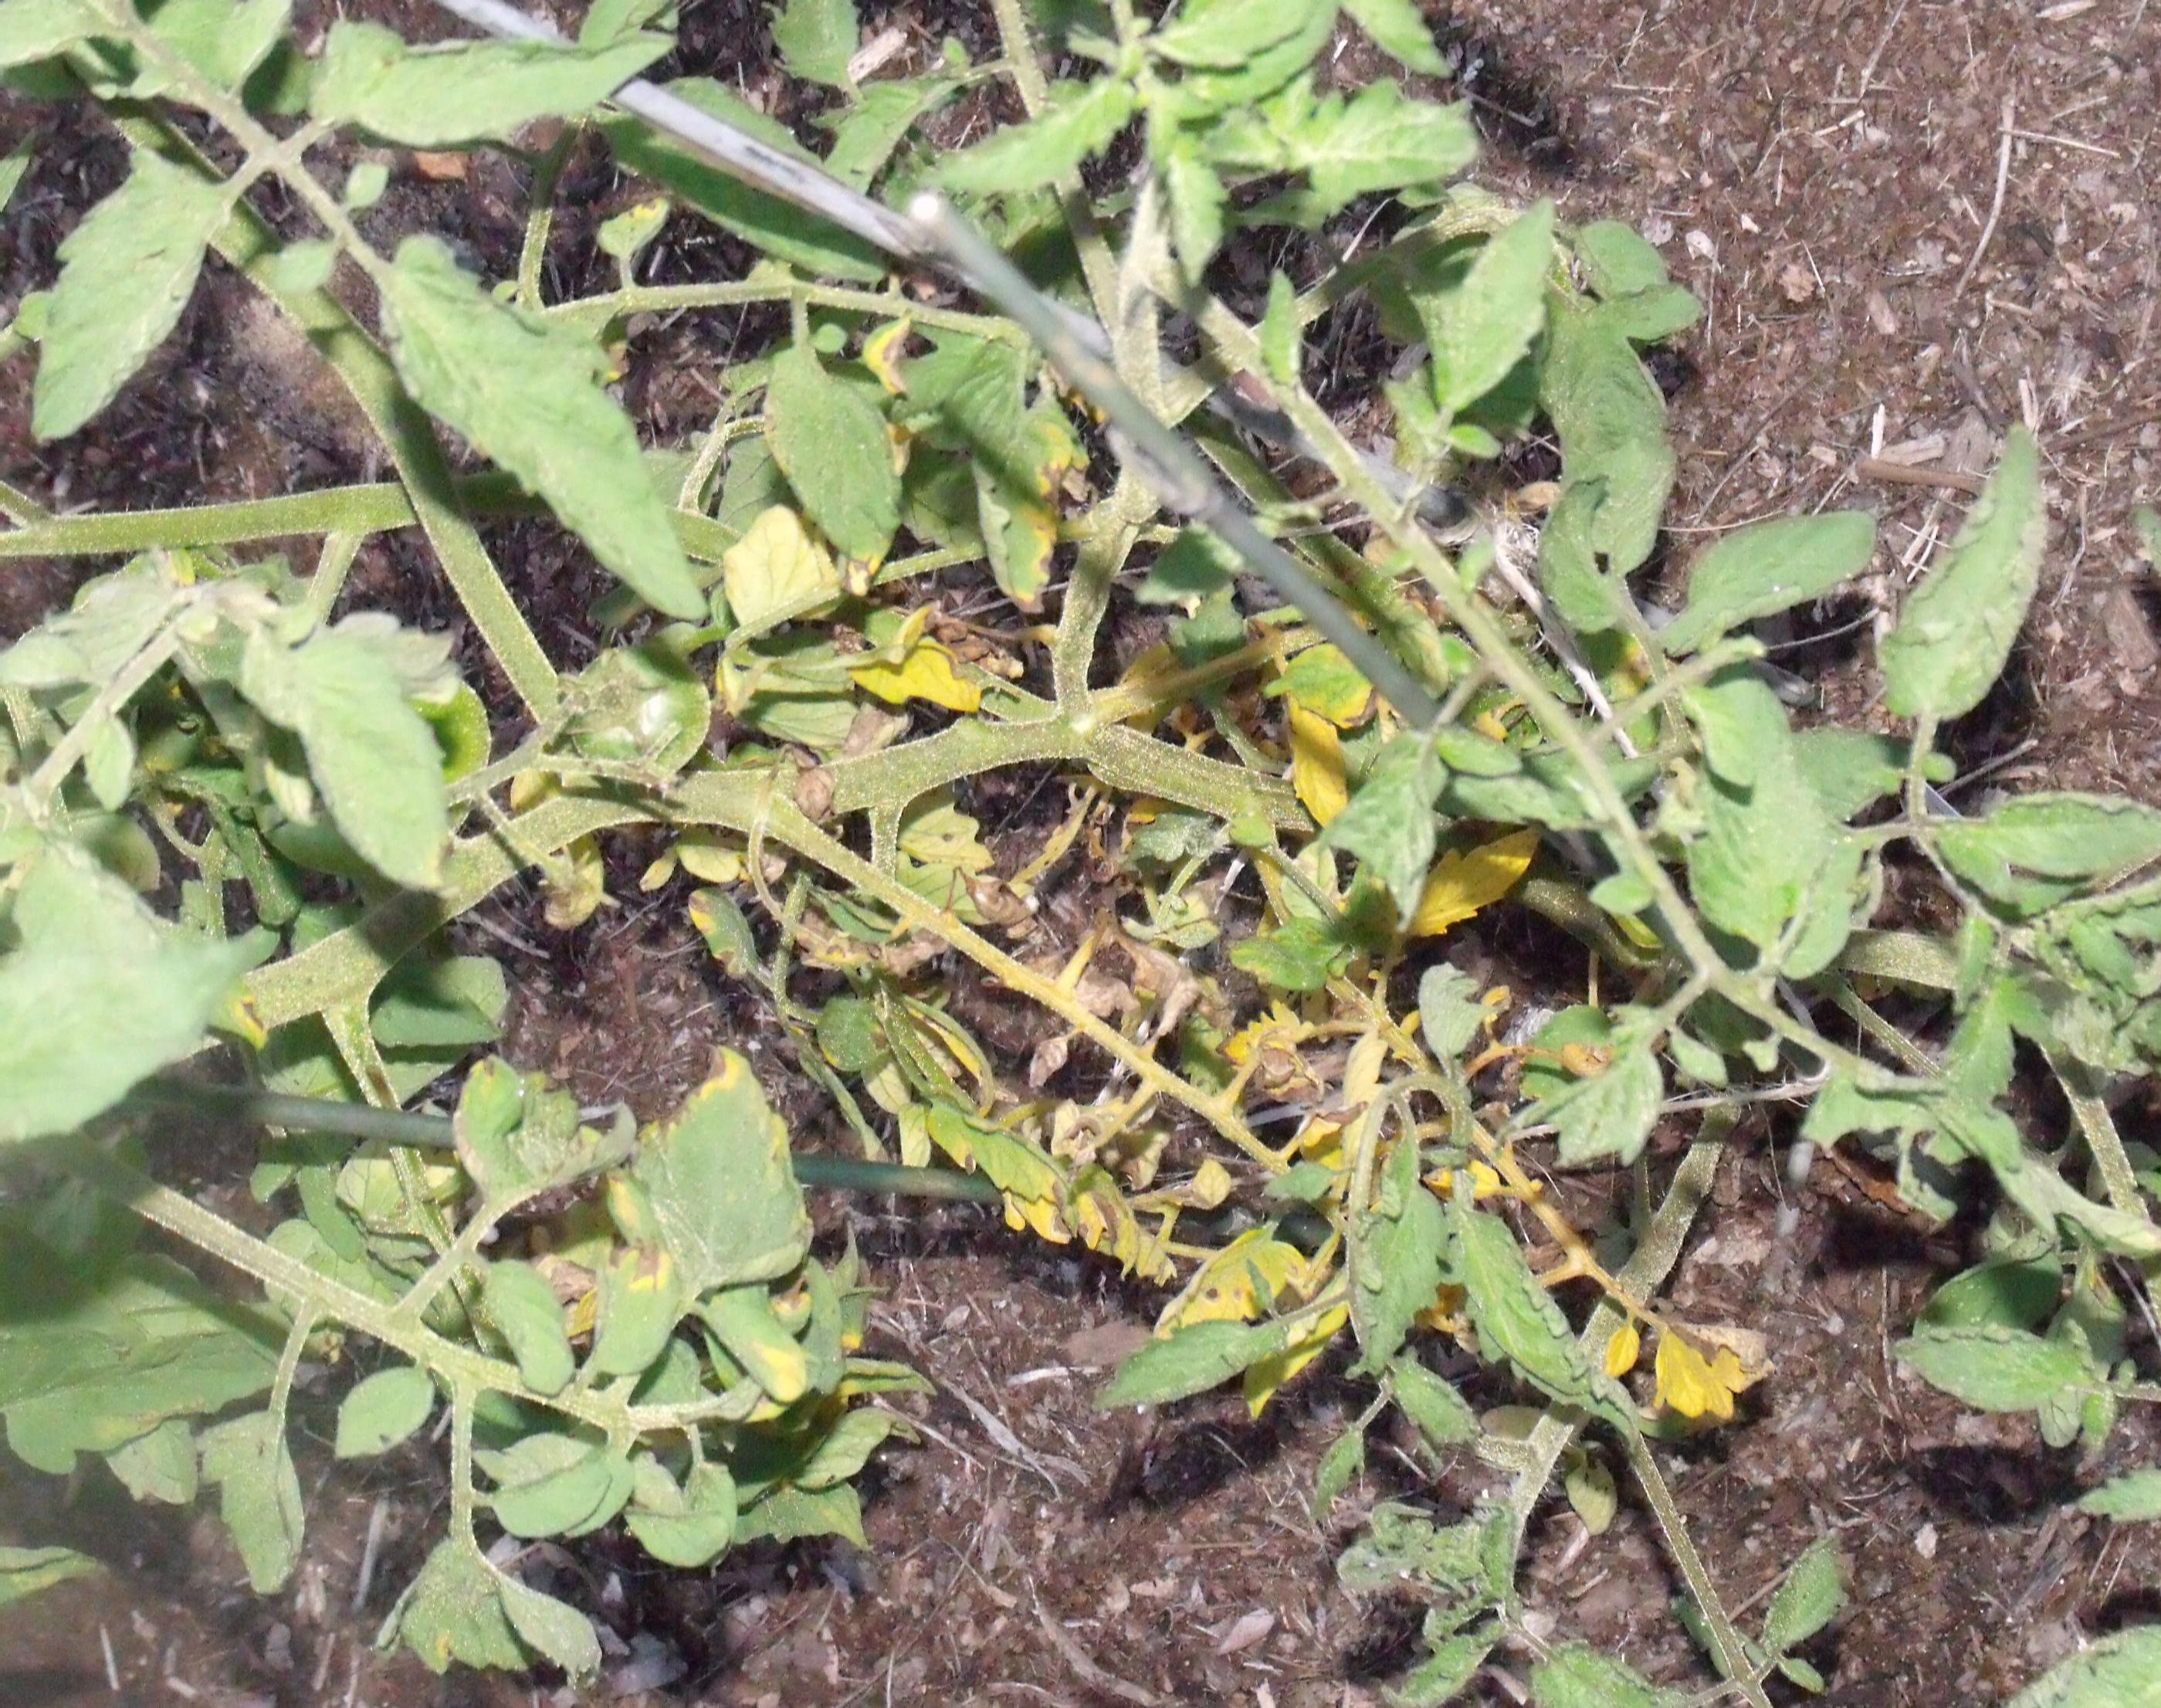Tomato leaf bacterial spot: (353, 228, 688, 626), (244, 580, 465, 907), (0, 112, 207, 458), (279, 0, 696, 170), (903, 321, 1123, 626), (589, 1052, 840, 1313), (1137, 53, 1501, 226), (1354, 205, 1601, 456), (1619, 491, 1896, 696), (1424, 1140, 1607, 1440), (752, 333, 949, 608), (447, 1003, 612, 1259)
